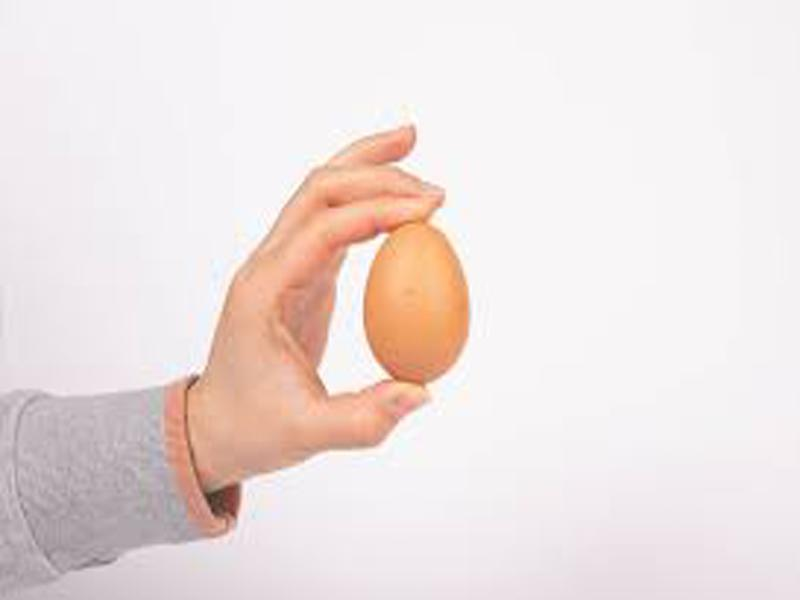Eggs: (366, 217, 469, 379)
